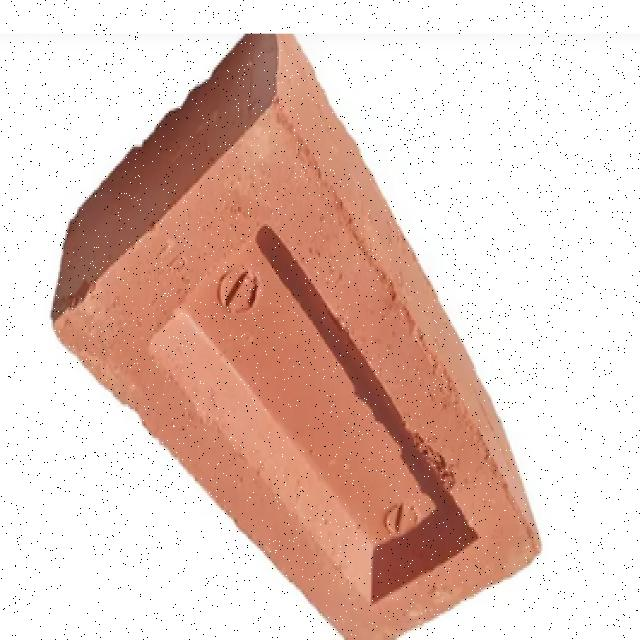bricks: (48, 31, 544, 640)
